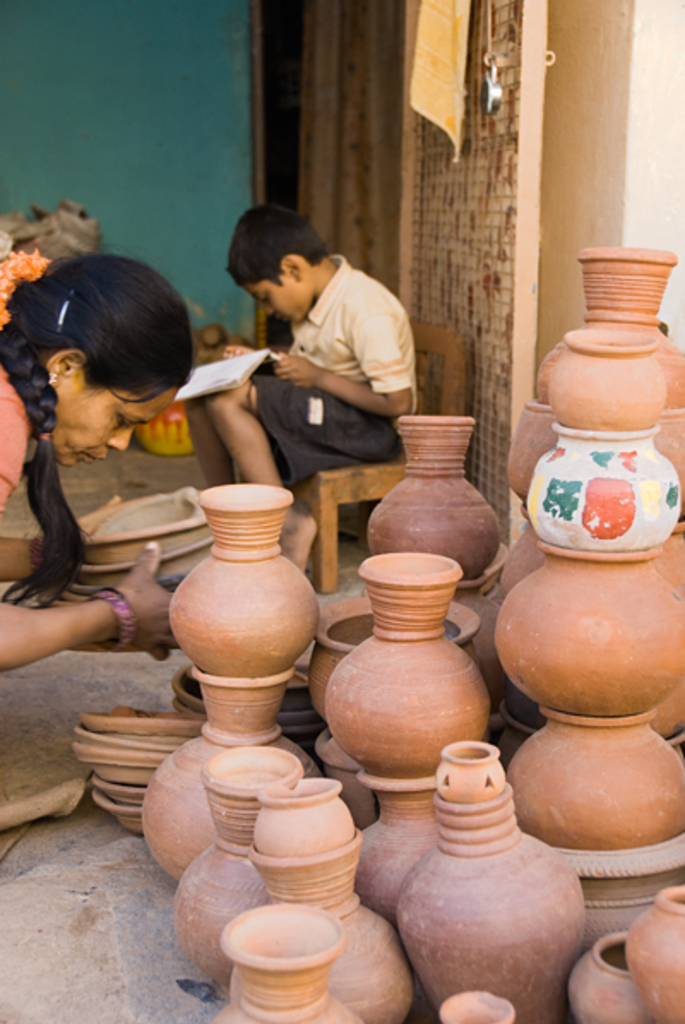Person: (183, 203, 416, 574)
